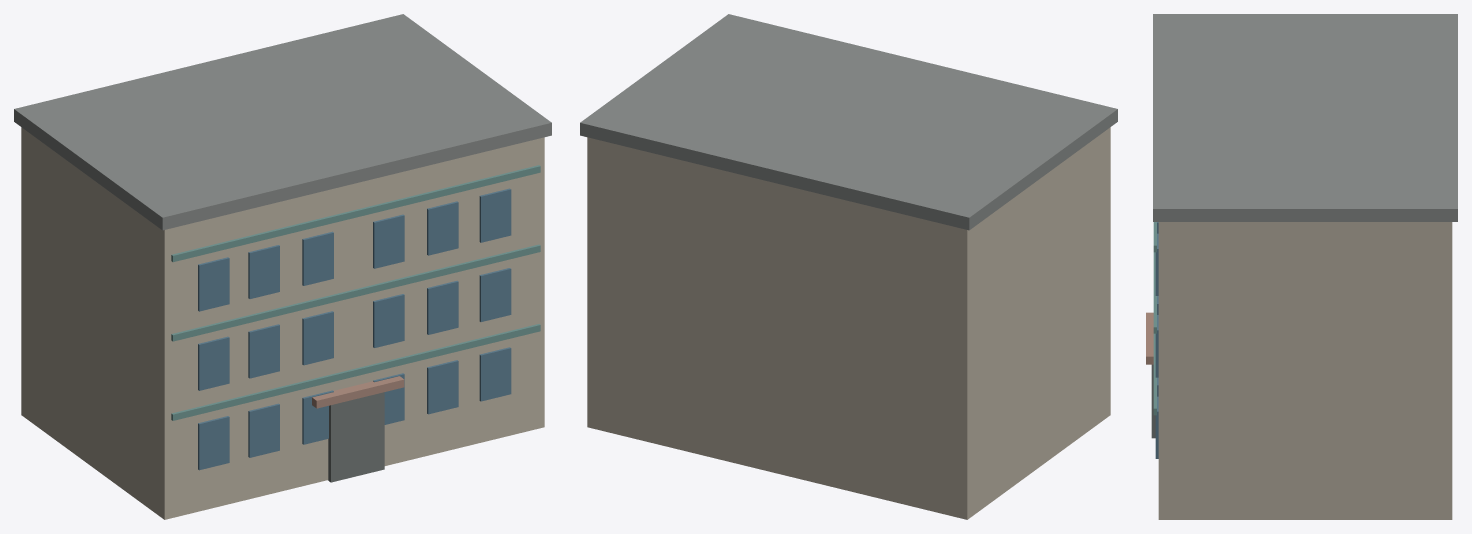
Rendered from school_3x2.glb.
The picture shows the model from 3 angles, left to right: view 1: azimuth 30°, elevation 25°; view 2: azimuth 150°, elevation 25°; view 3: azimuth 270°, elevation 25°; orthographic projection. The views are drawn at different scales.
Visible parts, largest first — view 1: school_3x2; view 2: school_3x2; view 3: school_3x2.
Part boxes in pixels (box(x1,y1,x2,y2)): school_3x2: box(14, 14, 551, 519); school_3x2: box(580, 14, 1117, 519); school_3x2: box(1146, 14, 1457, 519).
Bounding box in the file's own units: 5.75 × 4.31 × 3.89.
